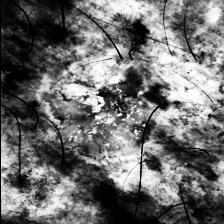Potentially Malignant Skin Tumors: (39, 54, 161, 164)
